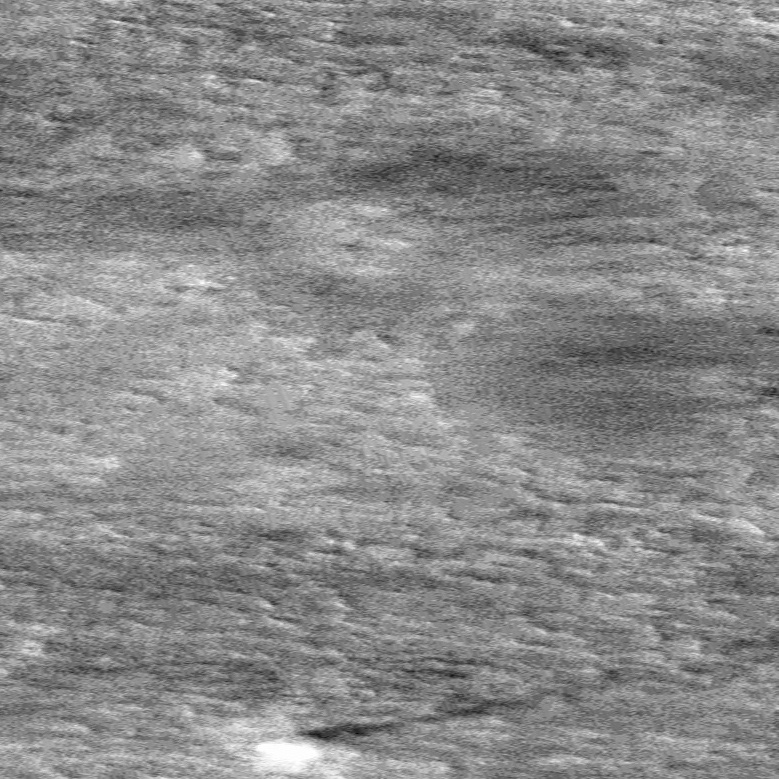dust_devil: (253, 697, 497, 778)
